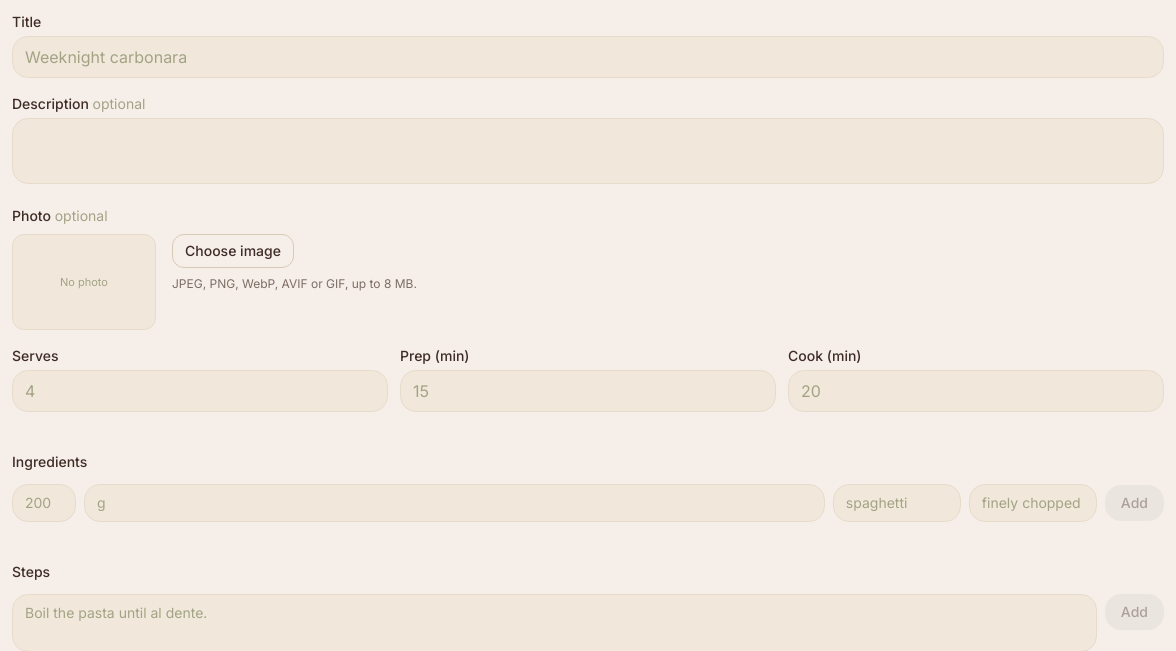
RecipeForm — editing committed rows › abandons an edit on Escape
In the field named "Ingredient": x=897, y=503 top-left (833, 484), bottom-right (961, 522), type "salt"
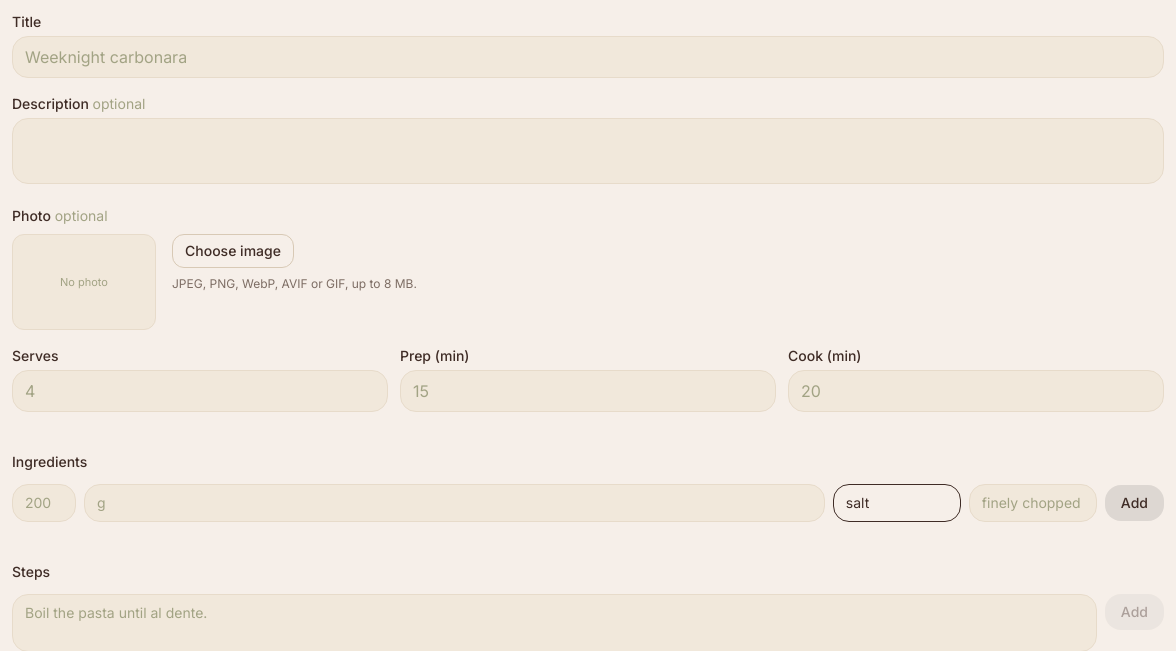
Click the 1st button "Add": x=1134, y=503 top-left (1105, 485), bottom-right (1164, 521)
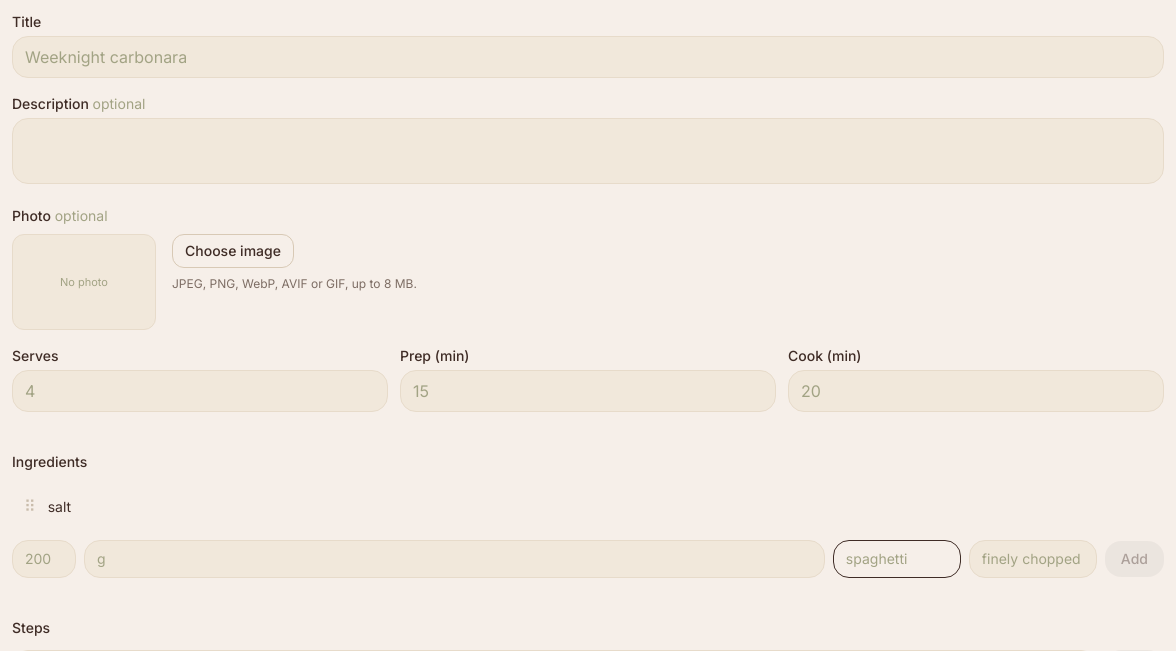
Click the button "salt": x=59, y=506 top-left (48, 494), bottom-right (1087, 518)
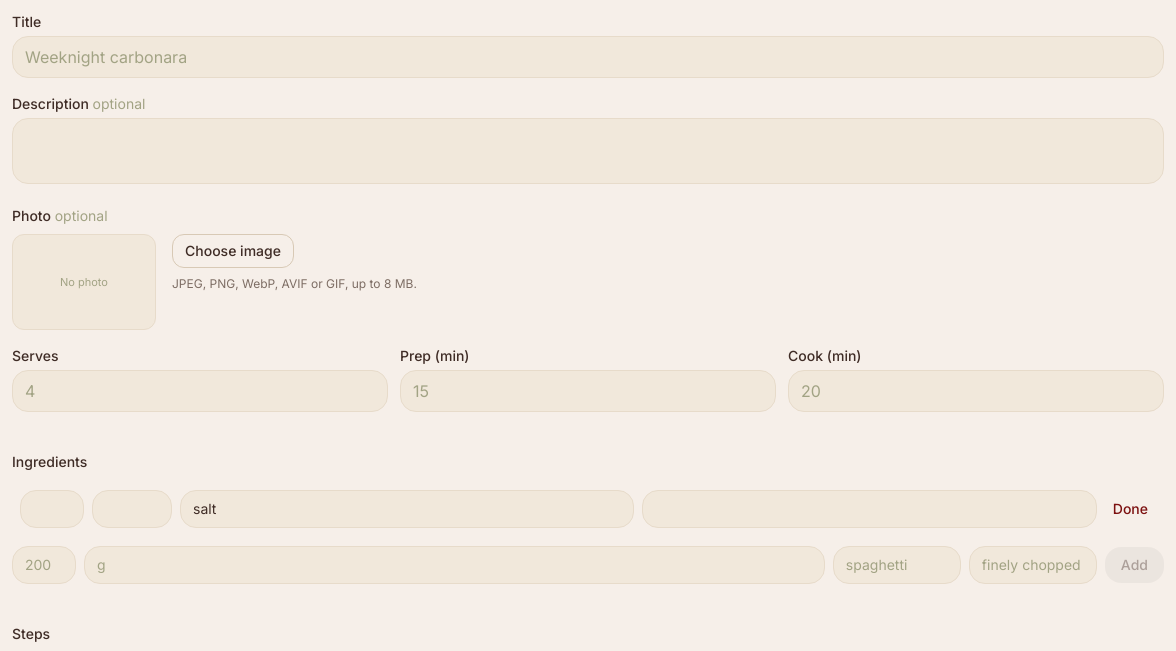
Replace the text in the field named "Edit ingredient" with "pepper": x=407, y=509 top-left (180, 490), bottom-right (634, 528)
Then press Escape
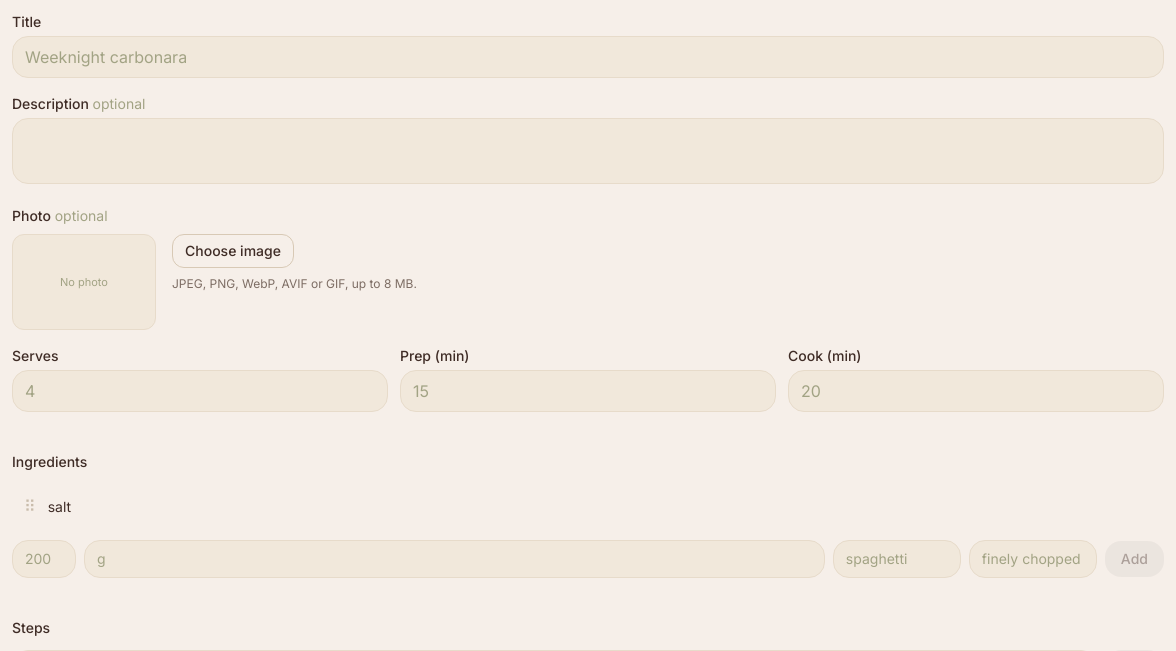
Expected: the text "salt" is shown, top-left (48, 498), bottom-right (71, 515)
